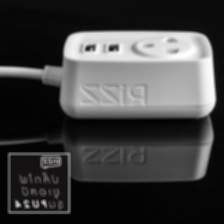three_eye_plug: (55, 21, 219, 122)
